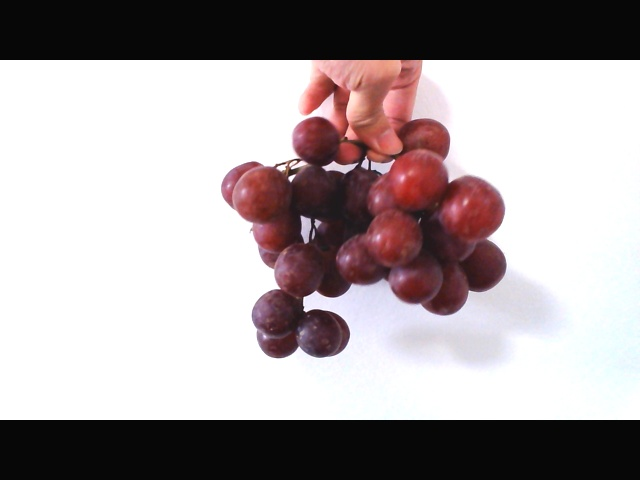grape: (219, 105, 525, 358)
